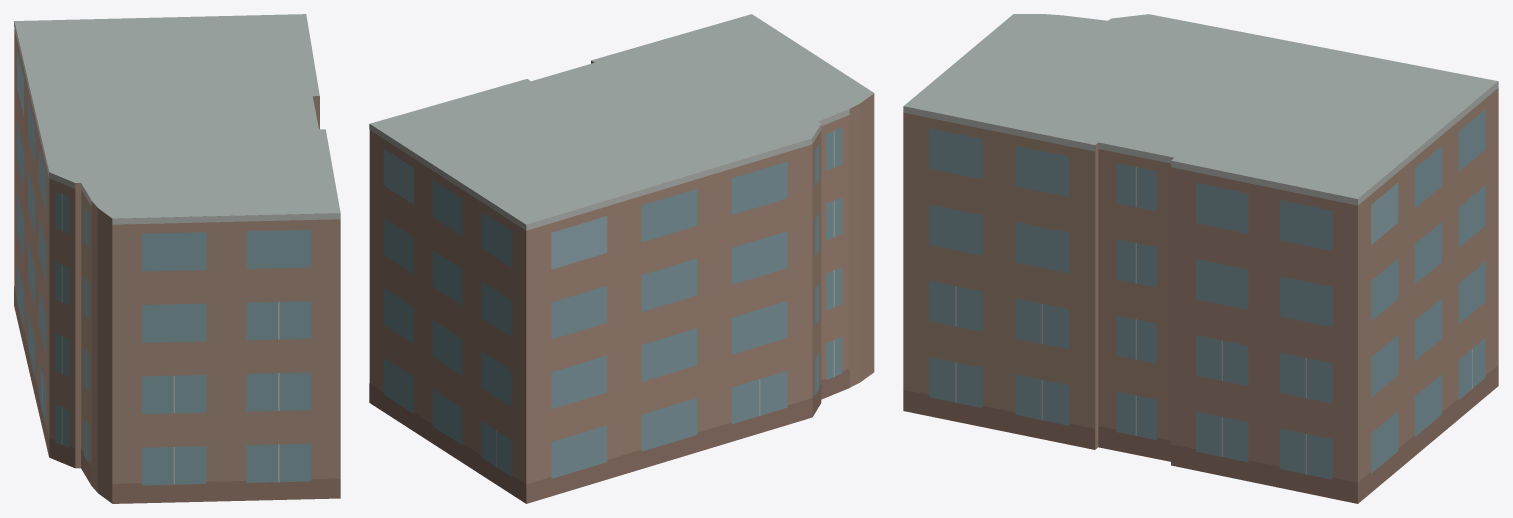
File: survey-upis-32886643.glb
3 renders of one model, left to right at view 1: azimuth 30°, elevation 25°; view 2: azimuth 150°, elevation 25°; view 3: azimuth 270°, elevation 25°, orthographic. The views are drawn at different scales.
Visible parts, largest first — view 1: survey-upis-32886643.tmp; view 2: survey-upis-32886643.tmp; view 3: survey-upis-32886643.tmp.
Part boxes in pixels (box(x1,y1,x2,y2)): survey-upis-32886643.tmp: box(14, 14, 340, 503); survey-upis-32886643.tmp: box(369, 14, 874, 503); survey-upis-32886643.tmp: box(903, 14, 1498, 503).
Size of the model in its own units: 14.85 by 11.4 by 20.18.
